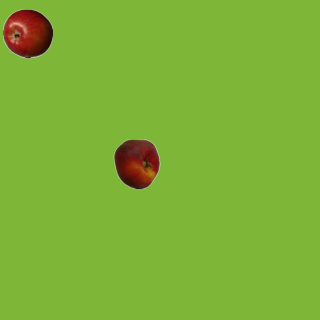Apple Braeburn: (2, 8, 52, 58)
Nectarine Flat: (111, 138, 161, 188)
